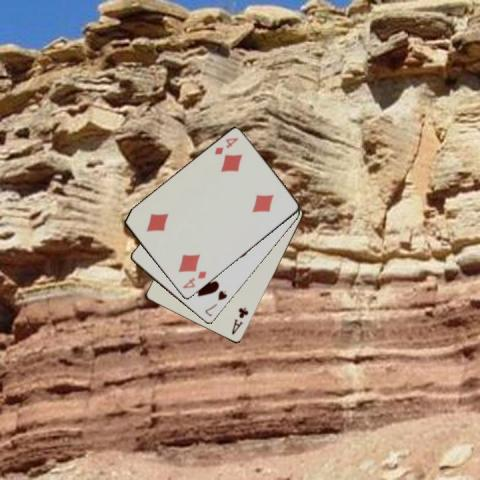4d: (179, 268, 208, 290), (212, 135, 240, 157)
7s: (202, 288, 229, 318)
Ac: (229, 305, 250, 336)
